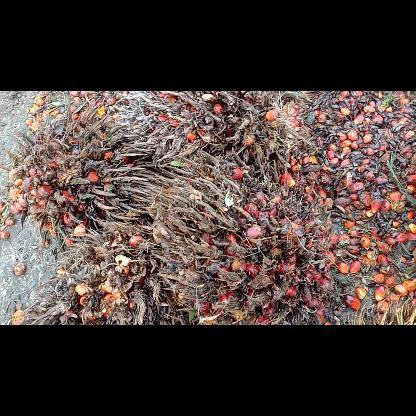Terlalu masak: (122, 156, 340, 324), (0, 90, 156, 250), (108, 92, 317, 194), (18, 222, 204, 324)
